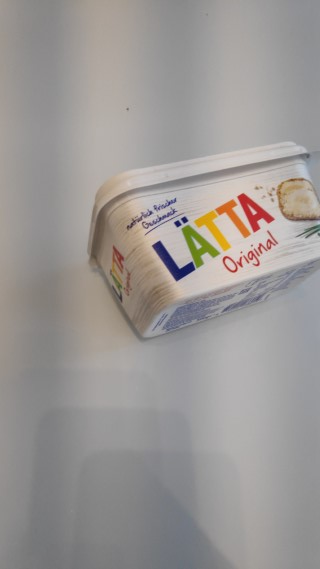laetta: (85, 138, 320, 339)
